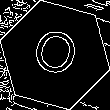O_S: (28, 25, 82, 85)
